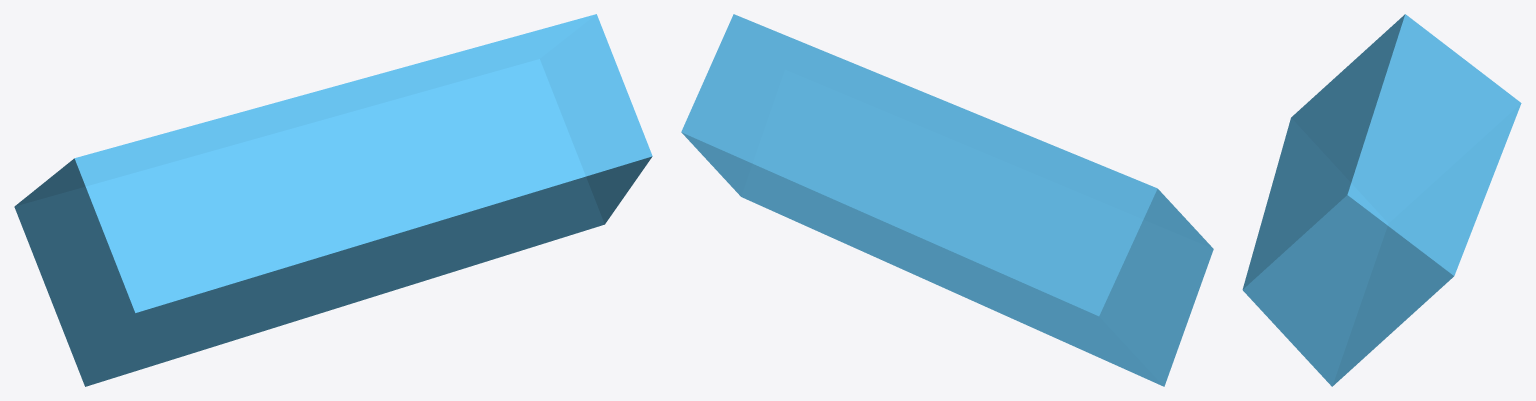
The model's file is Event_421127236_HErechit_29.fbx.
3 views of the same model, side by side, from view 1: azimuth 30°, elevation 25°; view 2: azimuth 150°, elevation 25°; view 3: azimuth 270°, elevation 25° (orthographic). The views are drawn at different scales.
Parts seen in each view (by area): view 1: Model; view 2: Model; view 3: Model.
Part boxes in pixels (bbox=[...]): Model: bbox=[14, 14, 652, 386]; Model: bbox=[681, 14, 1213, 386]; Model: bbox=[1242, 14, 1521, 386].
Bounding box in the file's own units: 0.9443 × 0.495 × 0.495.
